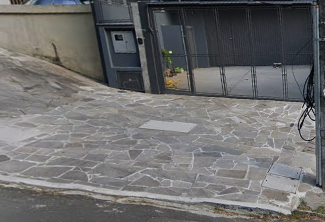vag52: (4, 146, 274, 222)
